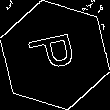P_E: (26, 31, 84, 79)
